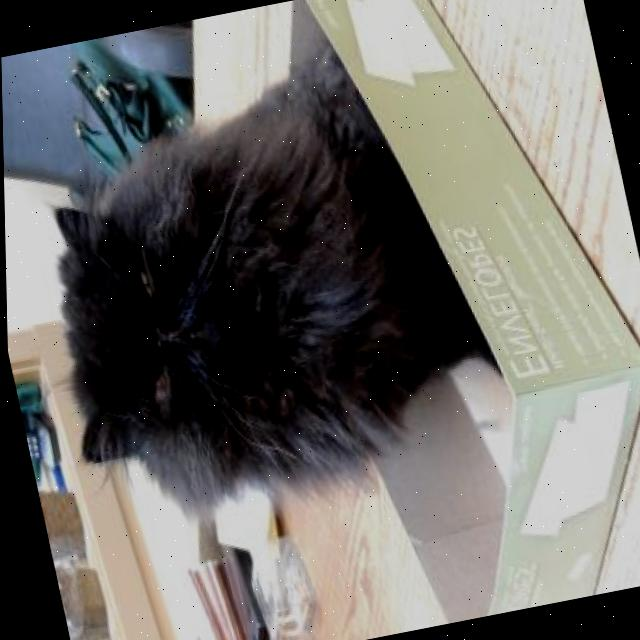Persian: (0, 13, 530, 539)
